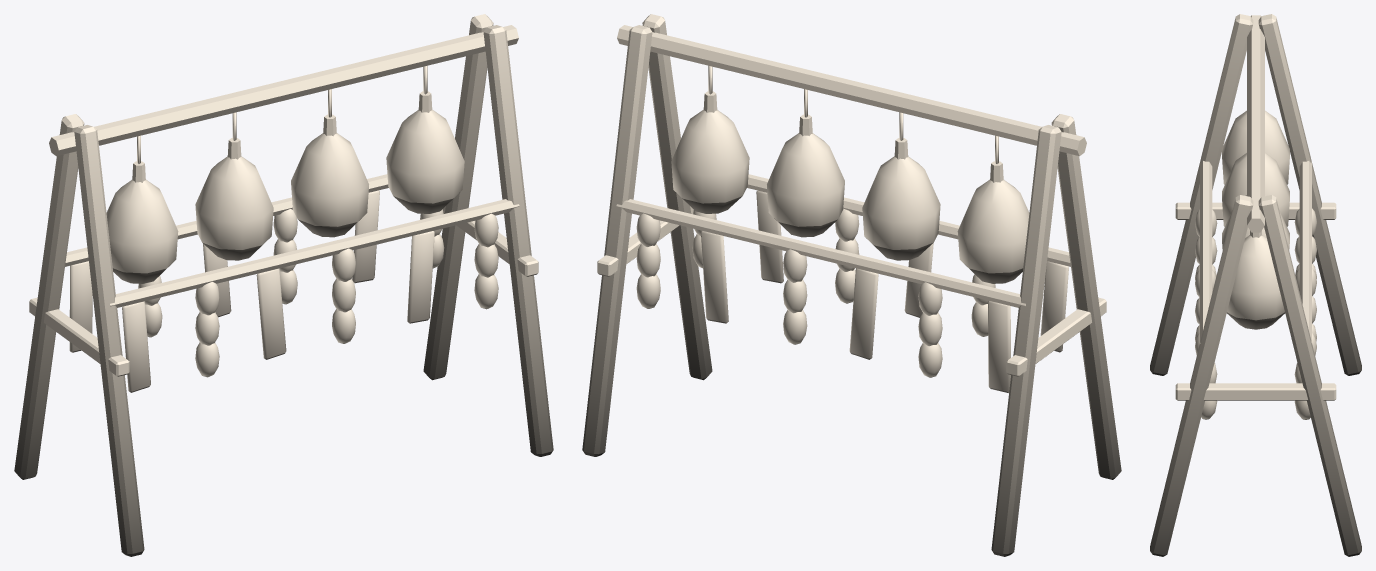
File: SM_VK_Prop_DryingRack_Meat.fbx
The picture shows the model from 3 angles, left to right: view 1: azimuth 30°, elevation 25°; view 2: azimuth 150°, elevation 25°; view 3: azimuth 270°, elevation 25°; orthographic projection. The views are drawn at different scales.
Visible parts, largest first — view 1: SM_VK_Prop_DryingRack_Meat.001; view 2: SM_VK_Prop_DryingRack_Meat.001; view 3: SM_VK_Prop_DryingRack_Meat.001.
Part boxes in pixels (x1=…): SM_VK_Prop_DryingRack_Meat.001: x1=14, y1=14, x2=553, y2=556; SM_VK_Prop_DryingRack_Meat.001: x1=582, y1=14, x2=1121, y2=556; SM_VK_Prop_DryingRack_Meat.001: x1=1150, y1=14, x2=1361, y2=556.
Size of the model in its own units: 2.7 by 2.21 by 1.19.
